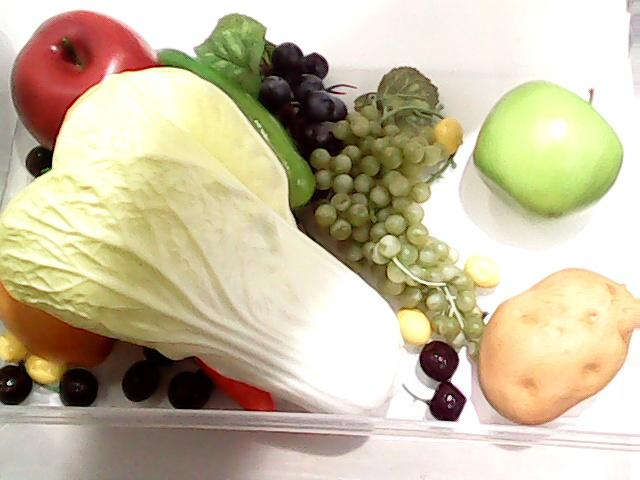apple: (2, 4, 154, 156), (470, 77, 626, 223)
carrot: (196, 334, 276, 410)
grape: (306, 114, 486, 358), (256, 42, 348, 162)
lemon: (1, 273, 128, 369)
napa cabbage: (1, 59, 422, 422), (1, 62, 412, 416)
pepper: (140, 33, 340, 207)
potato: (476, 269, 640, 427)
